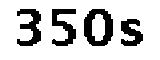0: (81, 7, 118, 50)
3: (13, 6, 45, 48)
5: (48, 5, 81, 48)
s: (119, 16, 146, 50)
